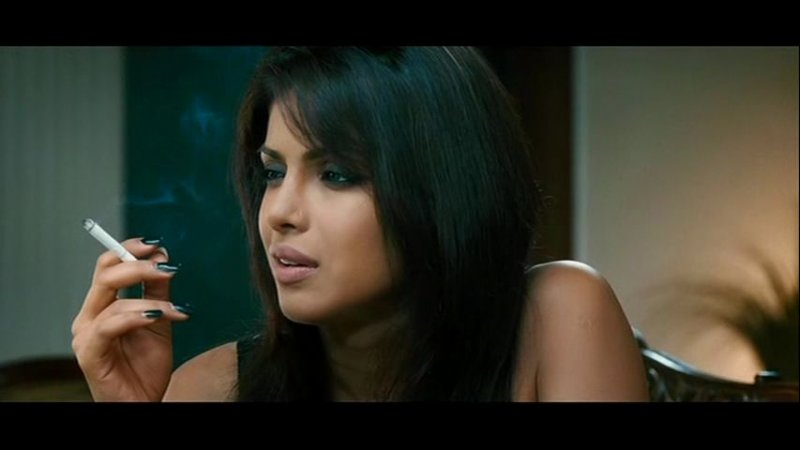cigarette: (80, 217, 143, 270)
